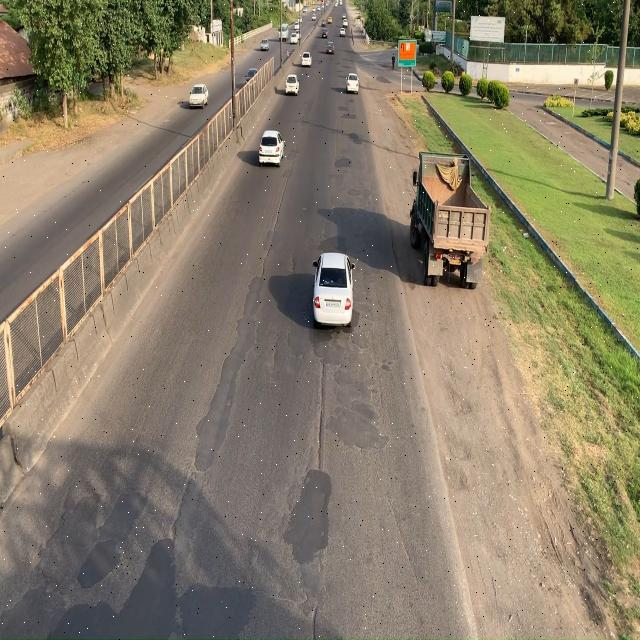Truck: (411, 150, 494, 290)
cars: (314, 250, 354, 328), (257, 130, 284, 166)
